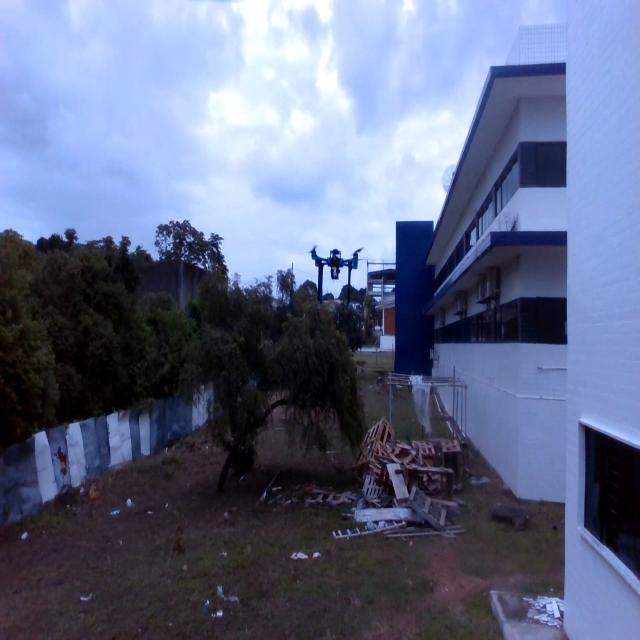-uav-: (292, 220, 383, 322)
